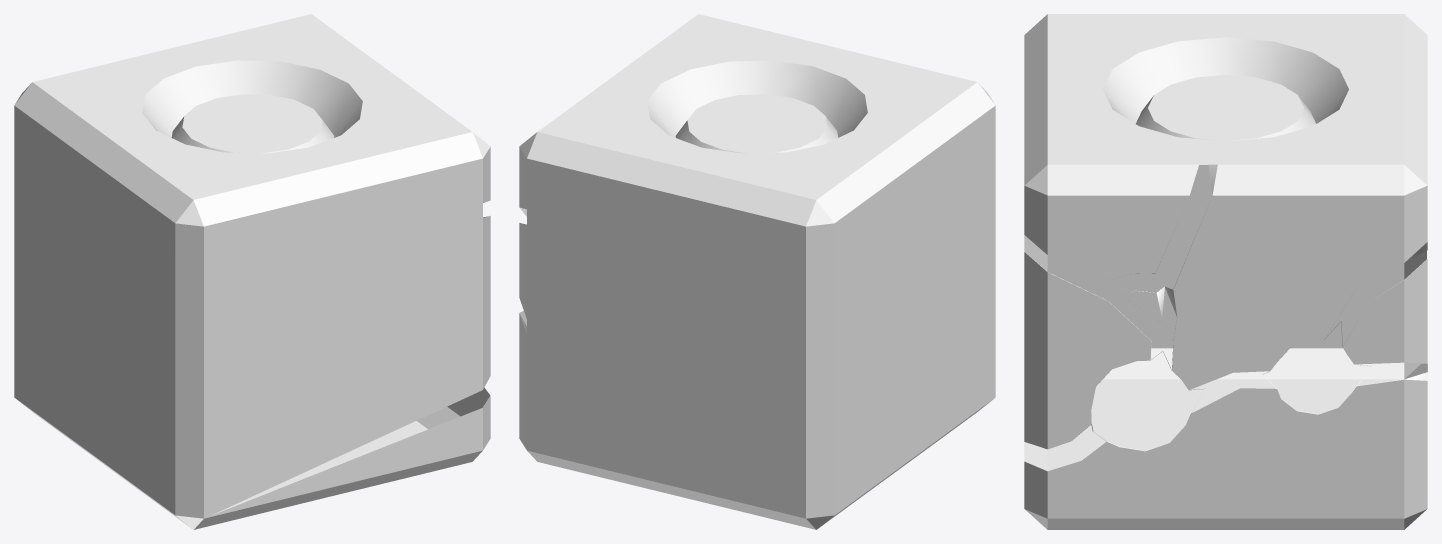
Rendered from Block_v2.FBX.
The picture shows the model from 3 angles, left to right: view 1: azimuth 30°, elevation 25°; view 2: azimuth 150°, elevation 25°; view 3: azimuth 270°, elevation 25°; orthographic projection. The views are drawn at different scales.
Visible parts, largest first — view 1: Box002; view 2: Box002; view 3: Box002.
Boxes of the visible parts, x1,y1,x2,y2 form: Box002: (14, 14, 490, 529); Box002: (519, 14, 995, 529); Box002: (1024, 14, 1427, 529).
Bounding box in the file's own units: 100 × 100 × 100.
